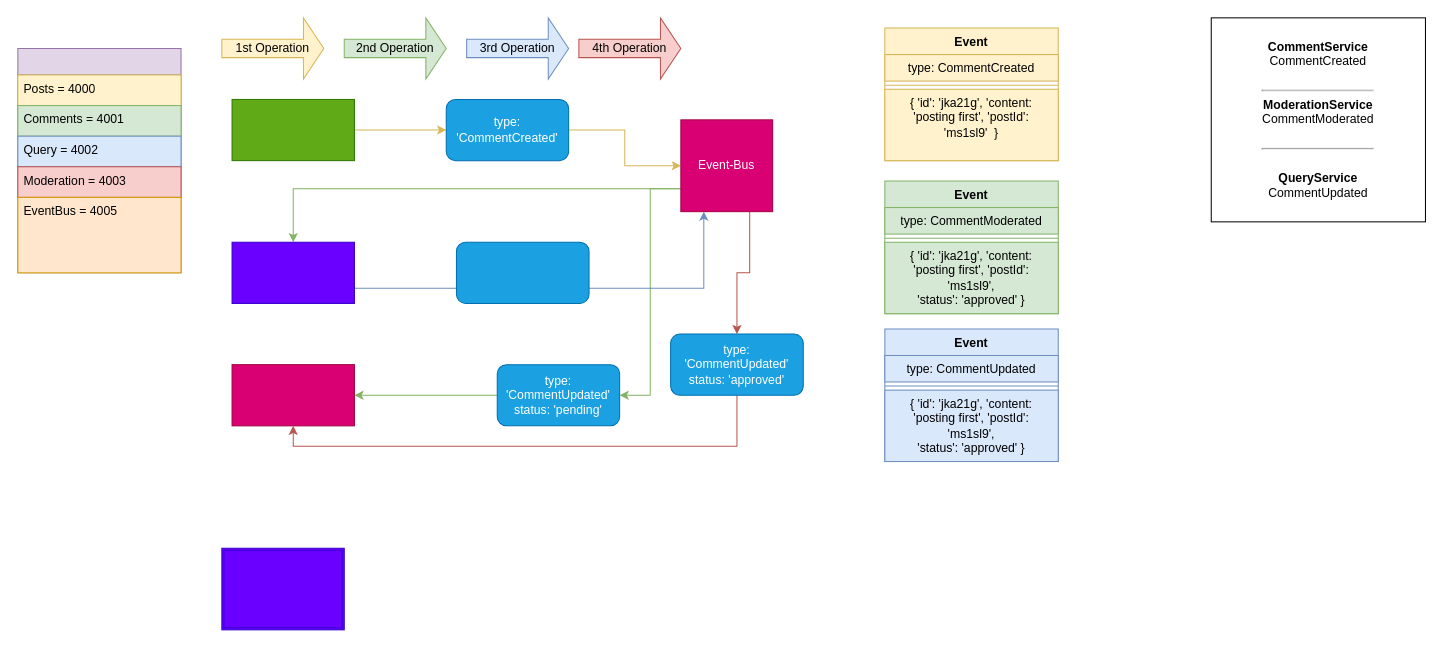
Some shapes in this 1443 by 648 pixel diagram are drawn without their labels. Each missing label, with the box of its shape:
CommentService: (231, 98, 354, 161)
If Moderation service is down, the posts will show as pending approval.: (221, 547, 344, 630)
ModerationService: (231, 241, 354, 303)
Ports: (17, 47, 181, 273)
QueryService: (231, 364, 354, 426)
type: 'CommentModerated' status: 'approved': (455, 241, 589, 303)
